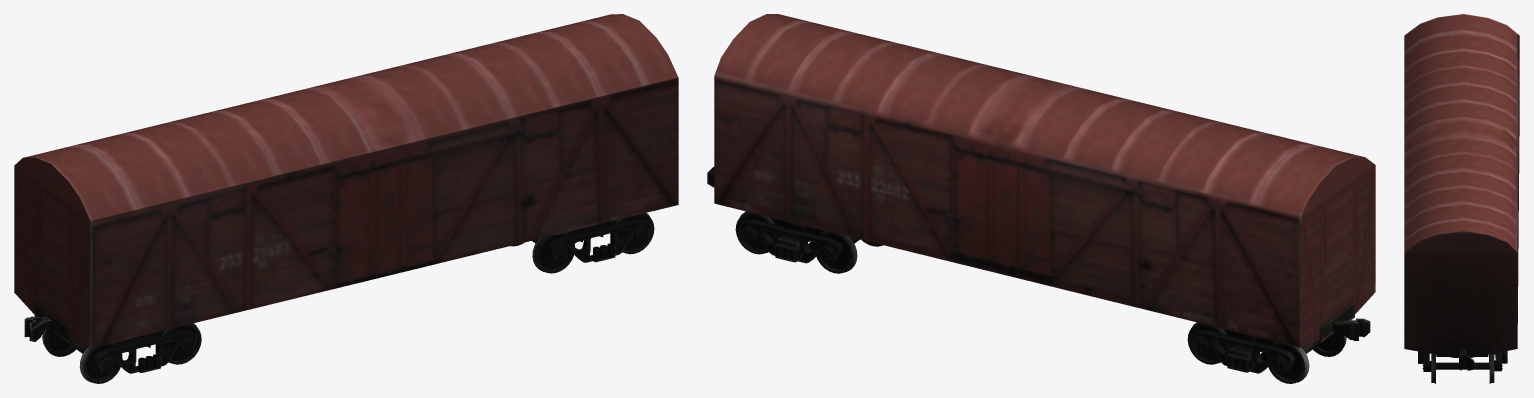
Rendered from vagons_carg_1.fbx.
The picture shows the model from 3 angles, left to right: view 1: azimuth 30°, elevation 25°; view 2: azimuth 150°, elevation 25°; view 3: azimuth 270°, elevation 25°; orthographic projection. The views are drawn at different scales.
Visible parts, largest first — view 1: vagons_carg_1; view 2: vagons_carg_1; view 3: vagons_carg_1.
Part boxes in pixels (x1=…): vagons_carg_1: x1=14, y1=14, x2=678, y2=383; vagons_carg_1: x1=707, y1=14, x2=1375, y2=383; vagons_carg_1: x1=1404, y1=14, x2=1519, y2=383.
Size of the model in its own units: 15.21 by 4.74 by 3.08.
